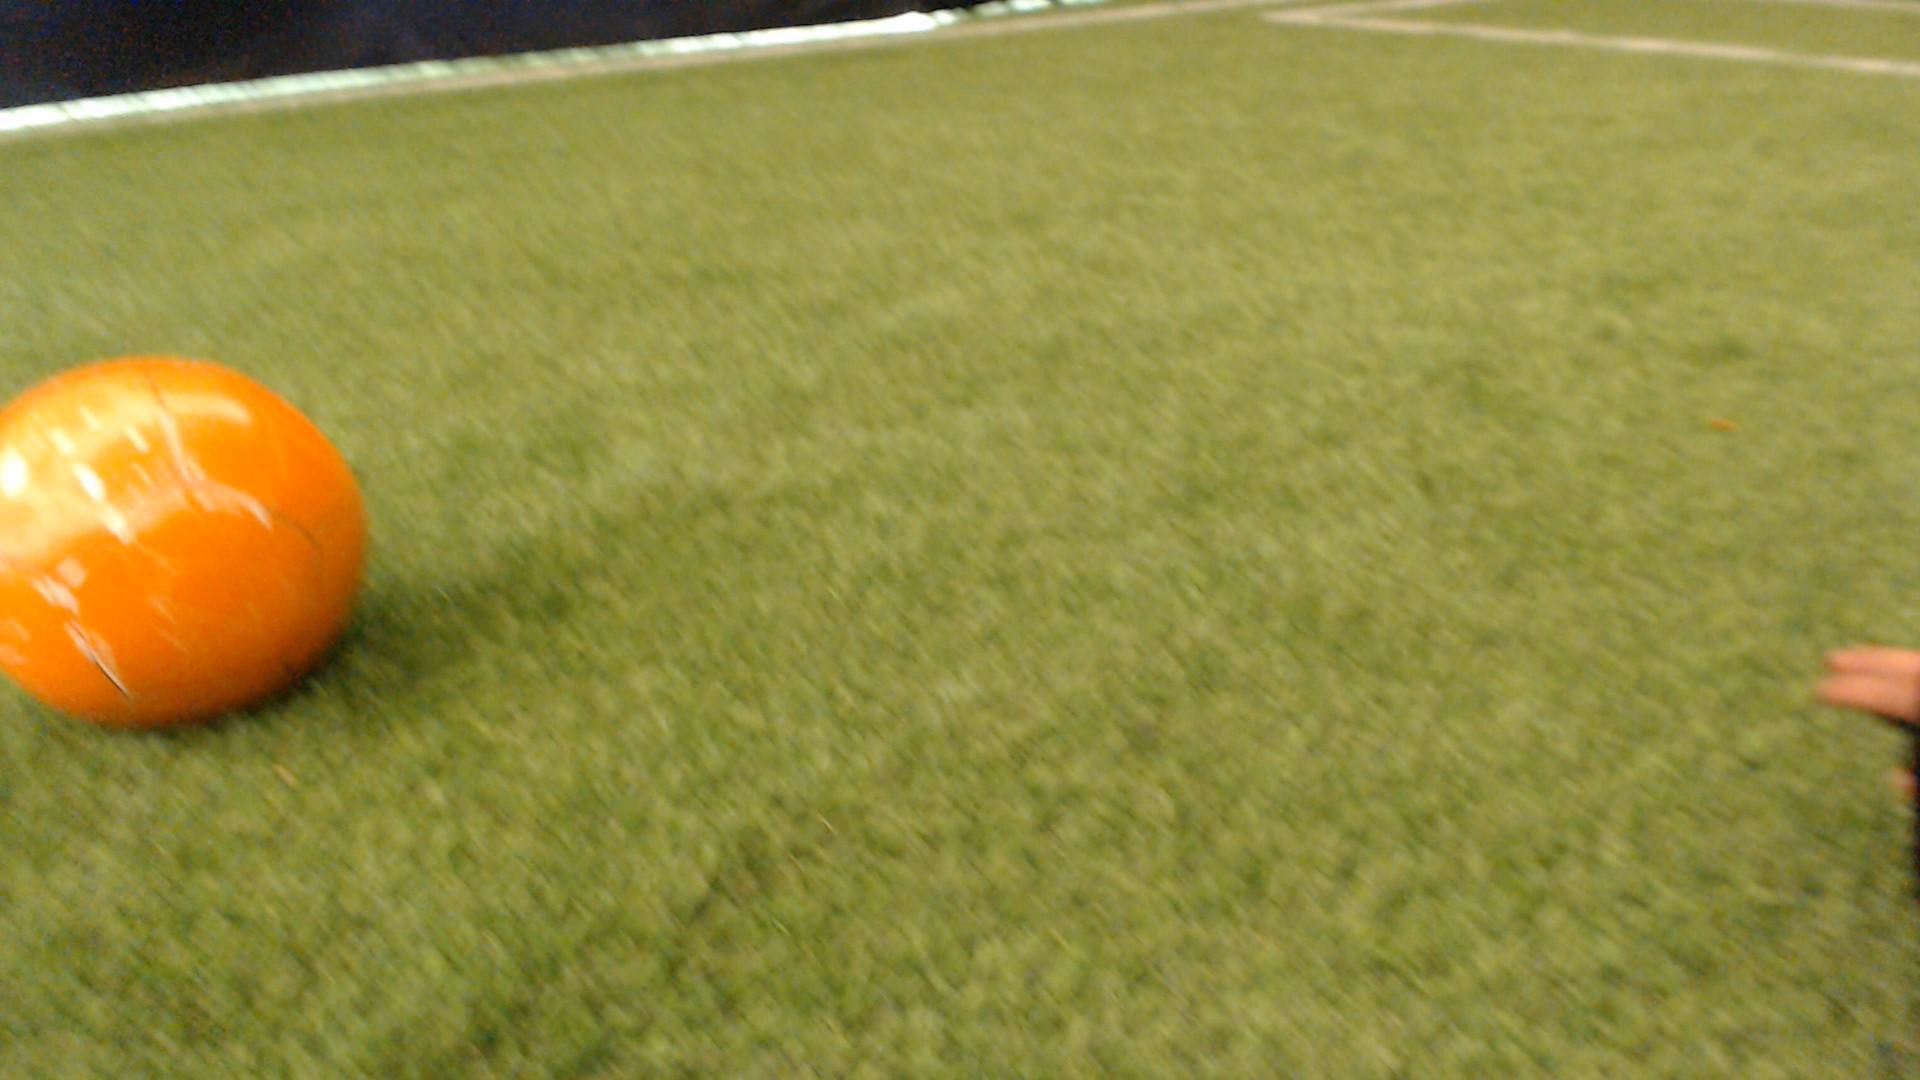bola: (0, 319, 403, 768)
